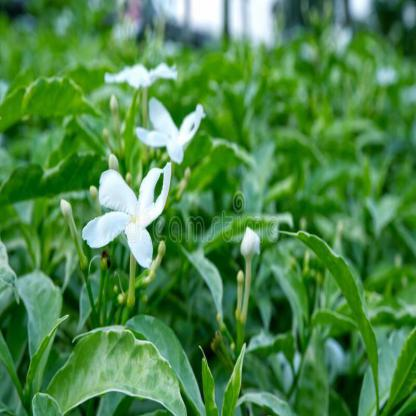Melati: (79, 76, 242, 257)
